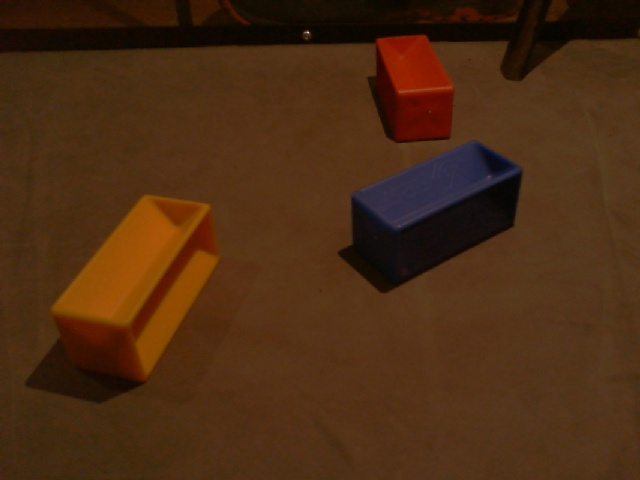BlueSample: (350, 138, 524, 288)
RedSample: (373, 31, 453, 144)
YellowSample: (49, 191, 223, 385)
